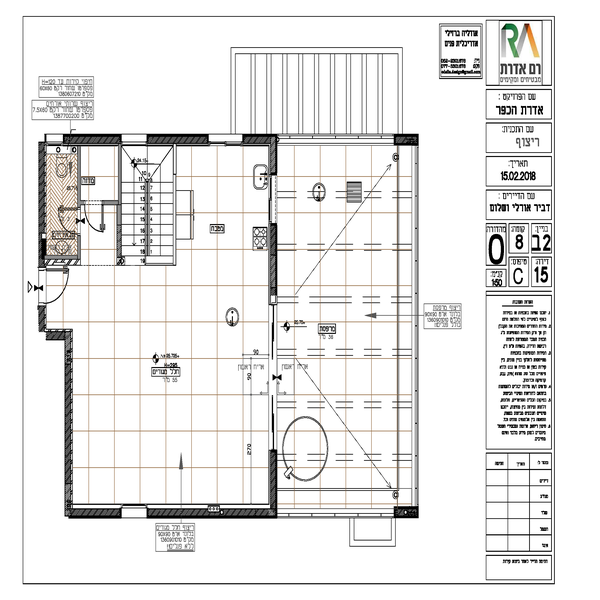wall: (63, 333, 77, 515), (150, 505, 273, 517), (65, 134, 123, 147), (267, 222, 277, 294), (147, 134, 211, 145), (268, 457, 279, 512), (73, 509, 120, 521), (247, 134, 277, 145)
